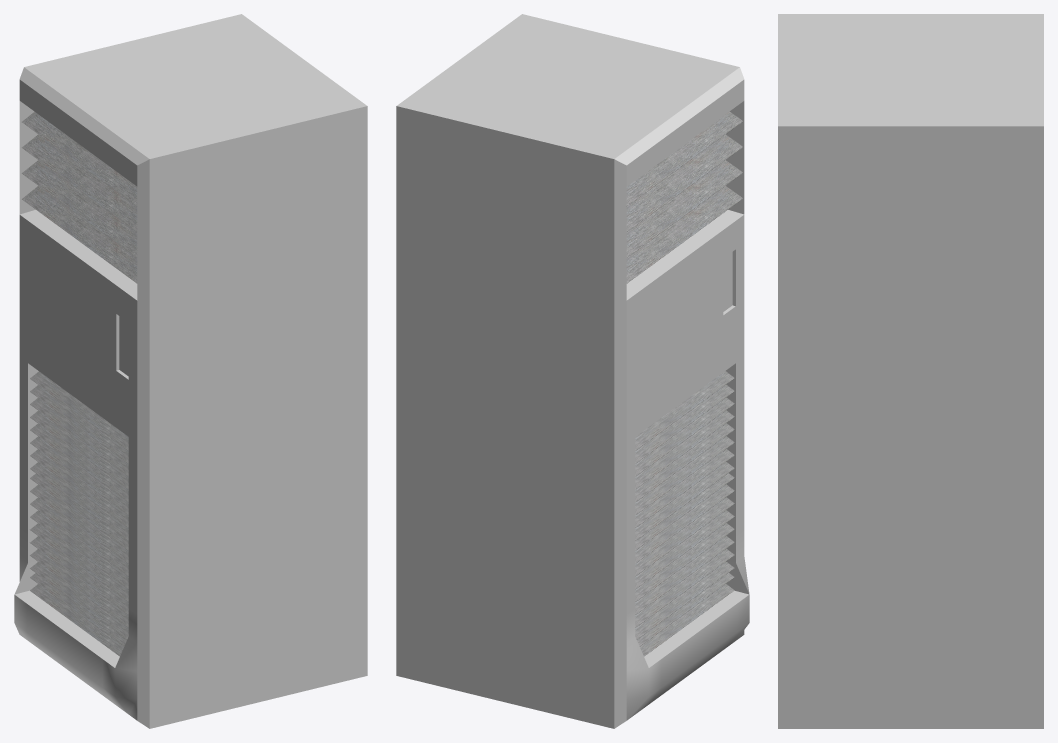
Rendered from 10_column_kondei.FBX.
3 views of the same model, side by side, from view 1: azimuth 30°, elevation 25°; view 2: azimuth 150°, elevation 25°; view 3: azimuth 270°, elevation 25° (orthographic). The views are drawn at different scales.
Visible parts, largest first — view 1: Box001, Box004, Box003, Box005, Box002, Box006, Box018, Box019, Box020, Box017, Box021, Box022 (+11 smaller); view 2: Box001, Box003, Box004, Box005, Box002, Box006, Box019, Box018, Box022, Box017, Box020, Box021 (+11 smaller); view 3: Box001.
Boxes of the visible parts, x1=… form: Box001: x1=14, y1=14, x2=367, y2=728; Box004: x1=22, y1=160, x2=137, y2=257; Box003: x1=22, y1=134, x2=137, y2=231; Box005: x1=22, y1=186, x2=137, y2=283; Box002: x1=22, y1=111, x2=137, y2=206; Box006: x1=30, y1=371, x2=128, y2=450; Box018: x1=30, y1=510, x2=128, y2=589; Box019: x1=30, y1=485, x2=128, y2=563; Box020: x1=30, y1=462, x2=128, y2=540; Box017: x1=30, y1=536, x2=128, y2=614; Box021: x1=30, y1=436, x2=128, y2=514; Box022: x1=30, y1=410, x2=128, y2=489; Box001: x1=396, y1=14, x2=749, y2=728; Box003: x1=626, y1=134, x2=742, y2=231; Box004: x1=626, y1=160, x2=742, y2=257; Box005: x1=626, y1=186, x2=742, y2=283; Box002: x1=626, y1=111, x2=742, y2=206; Box006: x1=635, y1=371, x2=734, y2=450; Box019: x1=635, y1=484, x2=734, y2=563; Box018: x1=635, y1=510, x2=734, y2=589; Box022: x1=635, y1=410, x2=734, y2=489; Box017: x1=635, y1=536, x2=734, y2=614; Box020: x1=635, y1=462, x2=734, y2=540; Box021: x1=635, y1=436, x2=734, y2=514; Box001: x1=778, y1=14, x2=1043, y2=728.
Bounding box in the file's own units: 881 × 2000 × 800.
2 materials, 1 textured.
